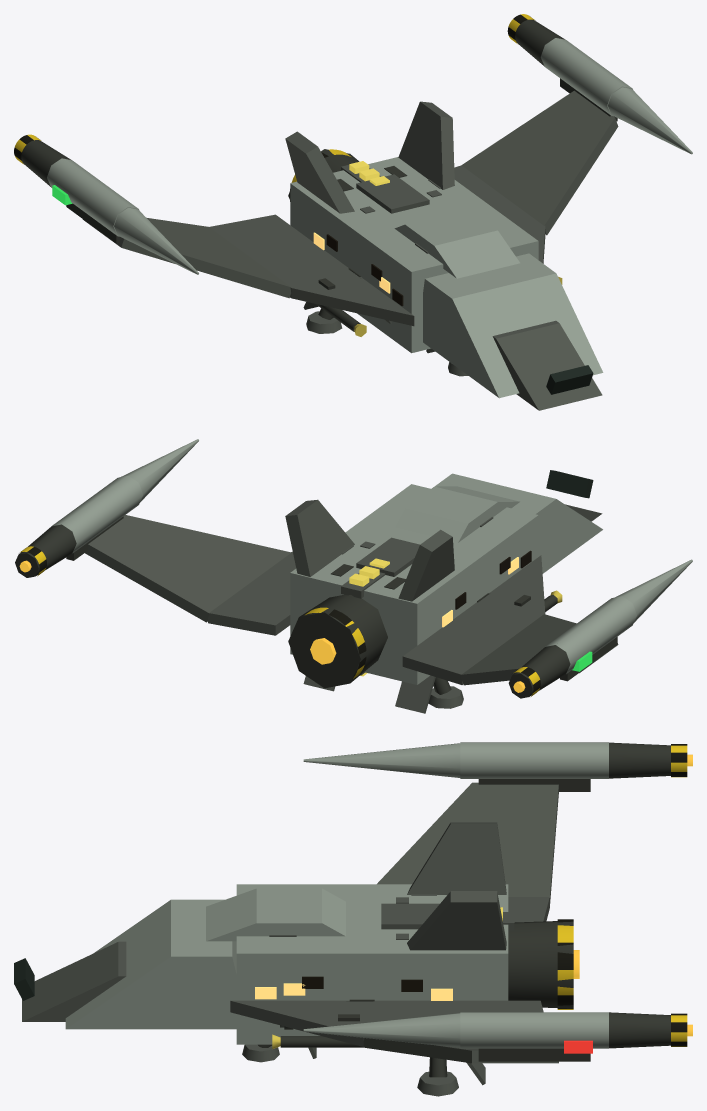
Rendered from fighter-m.glb.
3 renders of one model, top to bottom at view 1: azimuth 30°, elevation 25°; view 2: azimuth 150°, elevation 25°; view 3: azimuth 270°, elevation 25°, orthographic. The views are drawn at different scales.
Visible parts, largest first — view 1: hullMain, hullForebody, wingOuterRight, wingInnerLeft, nacelleBody (×2), hullNose, canopyFairing, wingOuterLeft, nacelleNoseCone (×2), stabilizerFinR, stabilizerFinL, nacelleEngineBell (×2) (+3 smaller); view 2: hullMain, wingOuterRight, wingInnerLeft, nacelleBody (×2), engineHousing, hullForebody, canopyFairing, wingInnerRight, stabilizerFinR, nacelleEngineBell (×2), wingOuterLeft, nacelleNoseCone (×2) (+6 smaller); view 3: hullMain, hullForebody, nacelleBody (×2), wingOuterLeft, canopyFairing, wingInnerRight, nacelleNoseCone (×2), stabilizerFinL, stabilizerFinR, hullNose, engineHousing, nacelleEngineBell (×2) (+7 smaller).
Part boxes in pixels (x1=…): hullMain: x1=290, y1=157, x2=538, y2=353; hullForebody: x1=423, y1=253, x2=603, y2=398; wingOuterRight: x1=461, y1=90, x2=618, y2=235; wingInnerLeft: x1=209, y1=214, x2=414, y2=326; nacelleBody (×2): x1=47, y1=38, x2=632, y2=236; hullNose: x1=492, y1=320, x2=602, y2=410; canopyFairing: x1=394, y1=209, x2=519, y2=278; wingOuterLeft: x1=82, y1=217, x2=291, y2=298; nacelleNoseCone (×2): x1=114, y1=87, x2=692, y2=274; stabilizerFinR: x1=398, y1=101, x2=454, y2=189; stabilizerFinL: x1=285, y1=131, x2=354, y2=213; nacelleEngineBell (×2): x1=21, y1=19, x2=564, y2=186; hullMain: x1=290, y1=484, x2=538, y2=684; wingOuterRight: x1=85, y1=515, x2=291, y2=622; wingInnerLeft: x1=402, y1=555, x2=545, y2=684; nacelleBody (×2): x1=52, y1=475, x2=636, y2=673; engineHousing: x1=288, y1=594, x2=387, y2=688; hullForebody: x1=435, y1=473, x2=602, y2=573; canopyFairing: x1=394, y1=486, x2=519, y2=542; wingInnerRight: x1=208, y1=552, x2=295, y2=635; stabilizerFinR: x1=285, y1=499, x2=354, y2=576; nacelleEngineBell (×2): x1=15, y1=524, x2=570, y2=698; wingOuterLeft: x1=460, y1=614, x2=618, y2=685; nacelleNoseCone (×2): x1=121, y1=439, x2=692, y2=622; hullMain: x1=236, y1=884, x2=508, y2=1044; hullForebody: x1=65, y1=899, x2=236, y2=1029; nacelleBody (×2): x1=460, y1=742, x2=608, y2=1048; wingOuterLeft: x1=377, y1=782, x2=558, y2=903; canopyFairing: x1=206, y1=888, x2=345, y2=941; wingInnerRight: x1=230, y1=1000, x2=543, y2=1046; nacelleNoseCone (×2): x1=303, y1=743, x2=460, y2=1047; stabilizerFinL: x1=407, y1=822, x2=506, y2=894; stabilizerFinR: x1=407, y1=891, x2=506, y2=950; hullNose: x1=22, y1=941, x2=126, y2=1021; engineHousing: x1=508, y1=921, x2=573, y2=1008; nacelleEngineBell (×2): x1=609, y1=742, x2=670, y2=1048.
Bounding box in the file's own units: 3.73 × 1.19 × 3.72.
